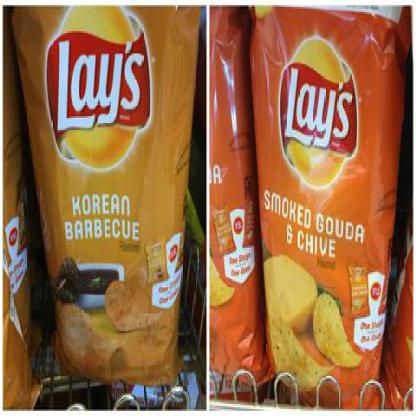potatochip: (9, 2, 204, 396), (244, 0, 414, 415), (197, 0, 277, 415), (0, 7, 44, 414)
